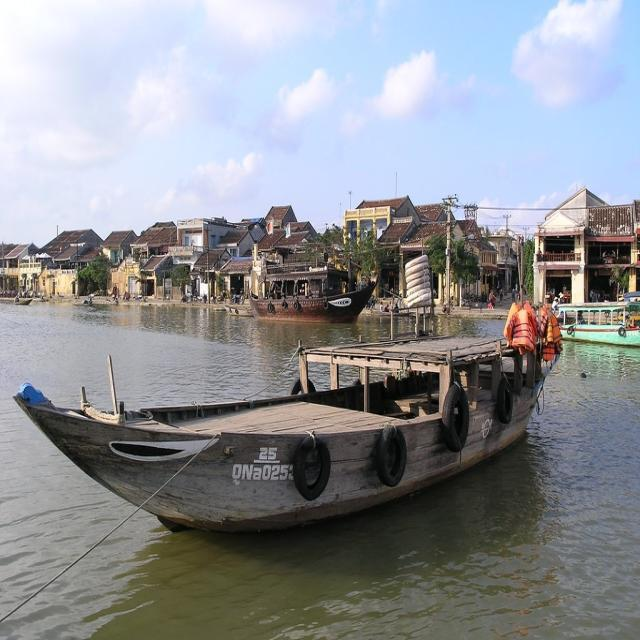boat: (16, 326, 572, 540), (241, 268, 374, 328)
